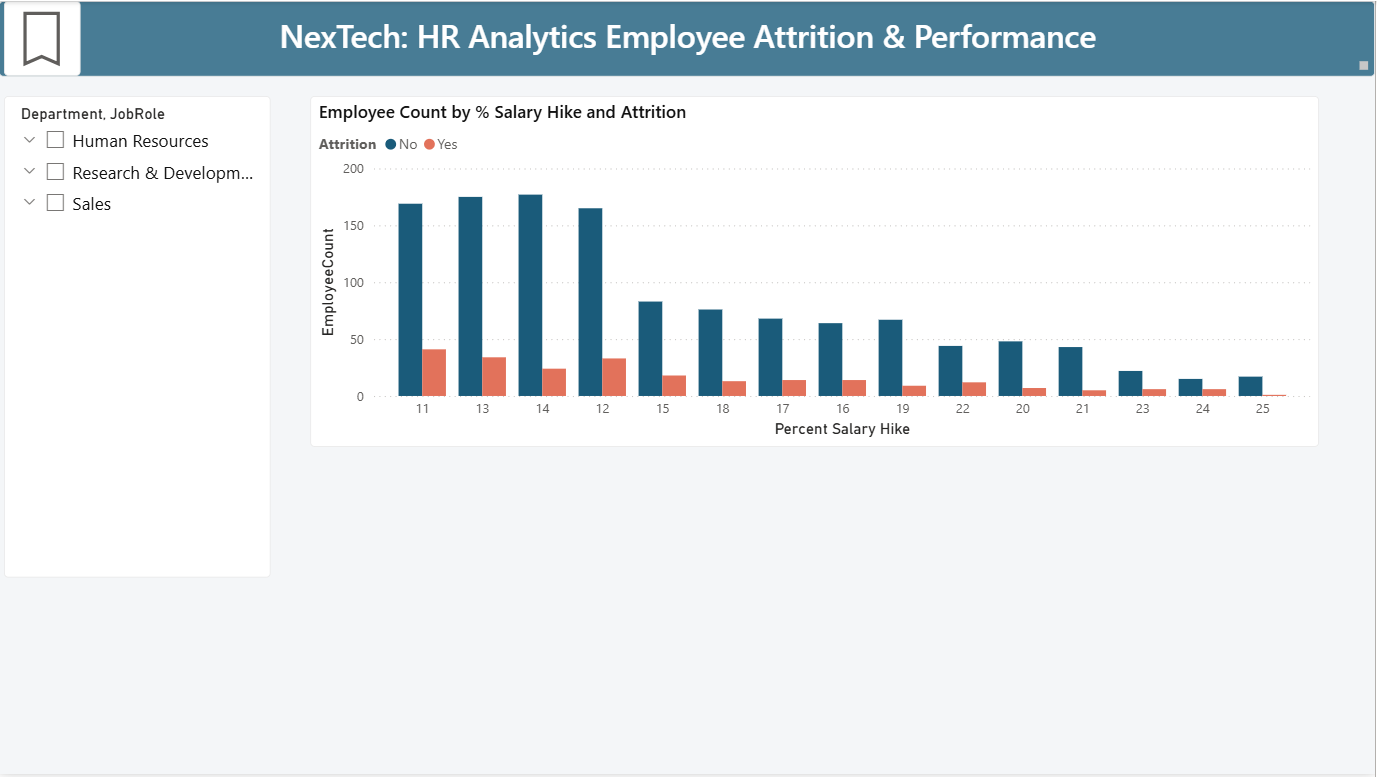

The dashboard page shown, as its layout file describes it:
{"tool":"powerbi","page":{"name":"Salary Hike","canvas":[1280,720],"ordinal":8},"visuals":[{"type":"textbox","title":"NexTech: % Salary Hike Analysis","box":[0,0,1279.8,70],"z":0},{"type":"slicer","fields":{"Values":["Survey Input.Department","Survey Input.JobRole"]},"box":[4.7,88.4,247.7,447.7],"z":1000},{"type":"clusteredColumnChart","title":"Employee Count by % Salary Hike and Attrition","fields":{"Series":["Survey Input.Attrition"],"Category":["Survey Input.PercentSalaryHike"],"Y":["Sum(Survey Input.EmployeeCount)"]},"box":[289.6,88.3,938.7,326.4],"z":2000},{"type":"actionButton","box":[4.9,0,71.2,69.9],"z":3000}]}

Visuals, with their boxes on the page's 1280x720 design canvas (x1, y1, x2, y2). These are canvas units, not pixel positions in the 1377x777 screenshot, which may show the page scaled, cropped or inside an application window:
"NexTech: % Salary Hike Analysis" textbox: <bbox>0, 0, 1280, 70</bbox>
slicer - Survey Input.Department x Survey Input.JobRole: <bbox>5, 88, 252, 536</bbox>
"Employee Count by % Salary Hike and Attrition" clusteredColumnChart: <bbox>290, 88, 1228, 415</bbox>
actionButton: <bbox>5, 0, 76, 70</bbox>
